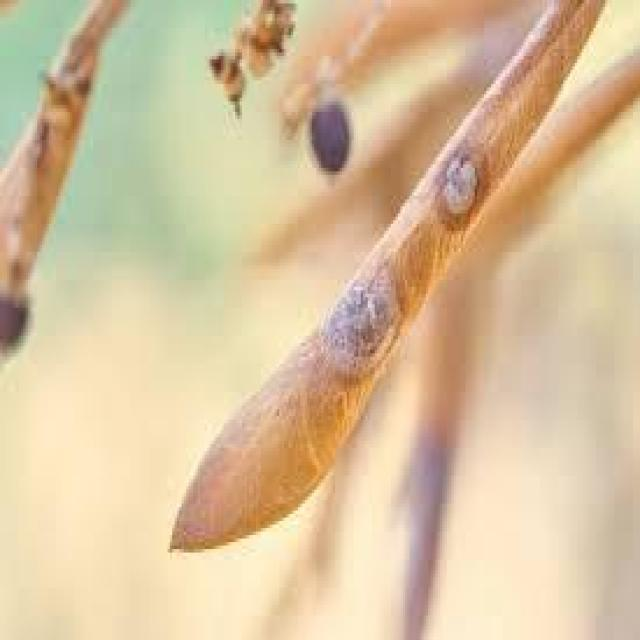Peacock Eye: (170, 0, 600, 546)
